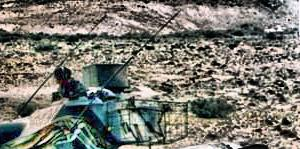tanks: (1, 67, 189, 149), (169, 144, 269, 149)
